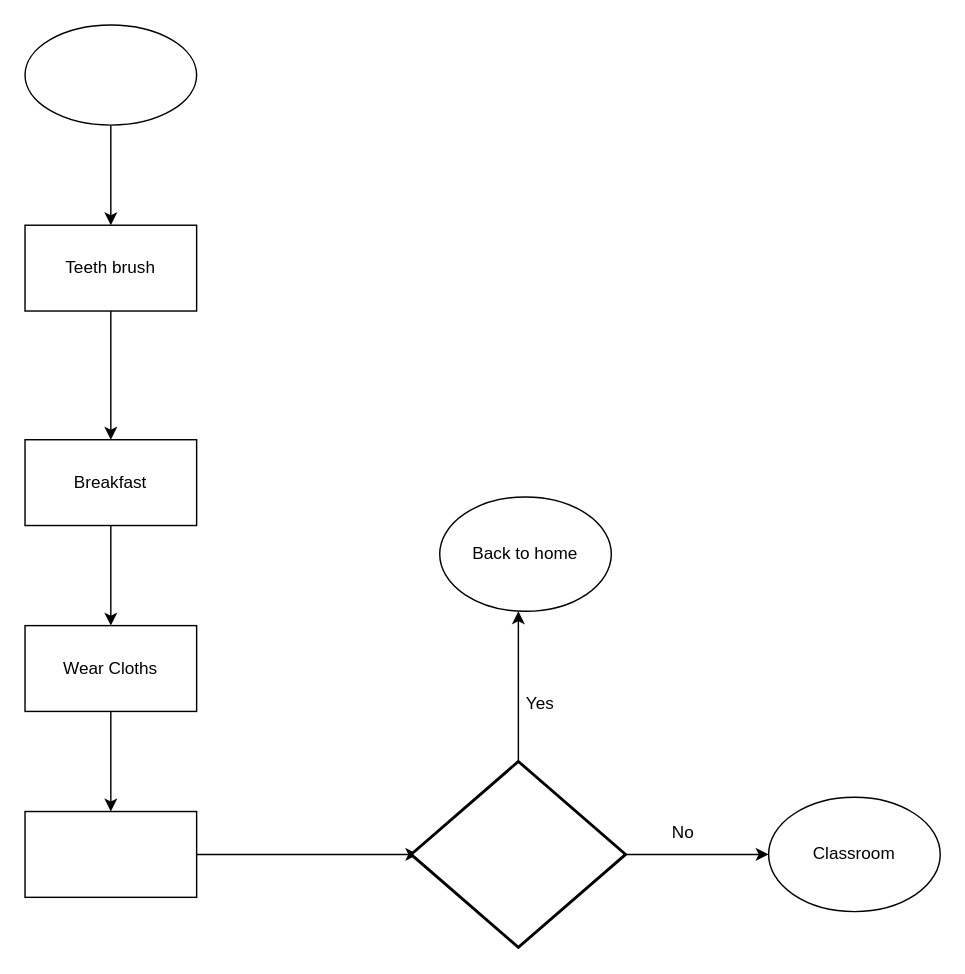
Image size: 965x974. Some labels were removed from this diagram. Each missing label, with the box of its shape:
Bad weather: (409, 759, 626, 948)
Bus Stop: (24, 810, 197, 897)
Wake up: (24, 24, 197, 125)
